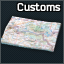Customs plan map: (0, 0, 64, 64)
